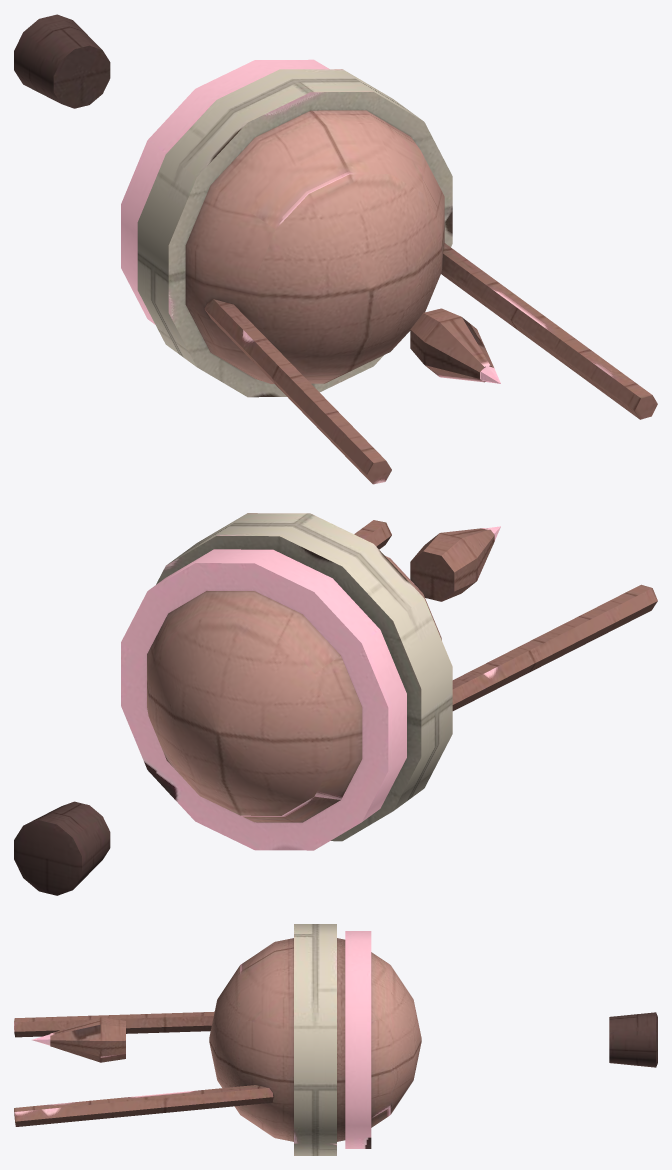
File: tessari_craft.glb
The picture shows the model from 3 angles, top to bottom: view 1: azimuth 30°, elevation 25°; view 2: azimuth 150°, elevation 25°; view 3: azimuth 270°, elevation 25°; orthographic projection. The views are drawn at different scales.
Parts seen in each view (by area): view 1: HULL, SYS_REACTOR, SYS_DRIVE, SYS_WPN1; view 2: HULL, SYS_REACTOR, SYS_DRIVE, SYS_WPN1; view 3: HULL, SYS_REACTOR, SYS_WPN1, SYS_DRIVE.
Part boxes in pixels (x1,y1,x2,y2): HULL: (137,69,657,484); SYS_REACTOR: (121,59,329,324); SYS_DRIVE: (14,14,110,108); SYS_WPN1: (410,308,500,383); HULL: (147,513,657,841); SYS_REACTOR: (121,549,406,850); SYS_DRIVE: (14,801,110,895); SYS_WPN1: (410,526,500,601); HULL: (14,924,421,1155); SYS_REACTOR: (345,931,371,1148); SYS_WPN1: (32,1017,125,1062); SYS_DRIVE: (609,1012,657,1067).
Bounding box in the file's own units: 1.43 × 1.43 × 3.96.
1 material, 1 textured.
